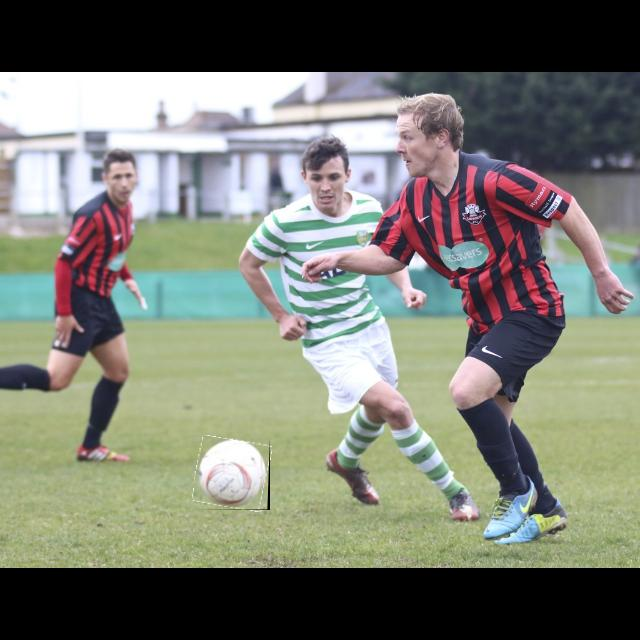Football: (194, 438, 270, 510)
